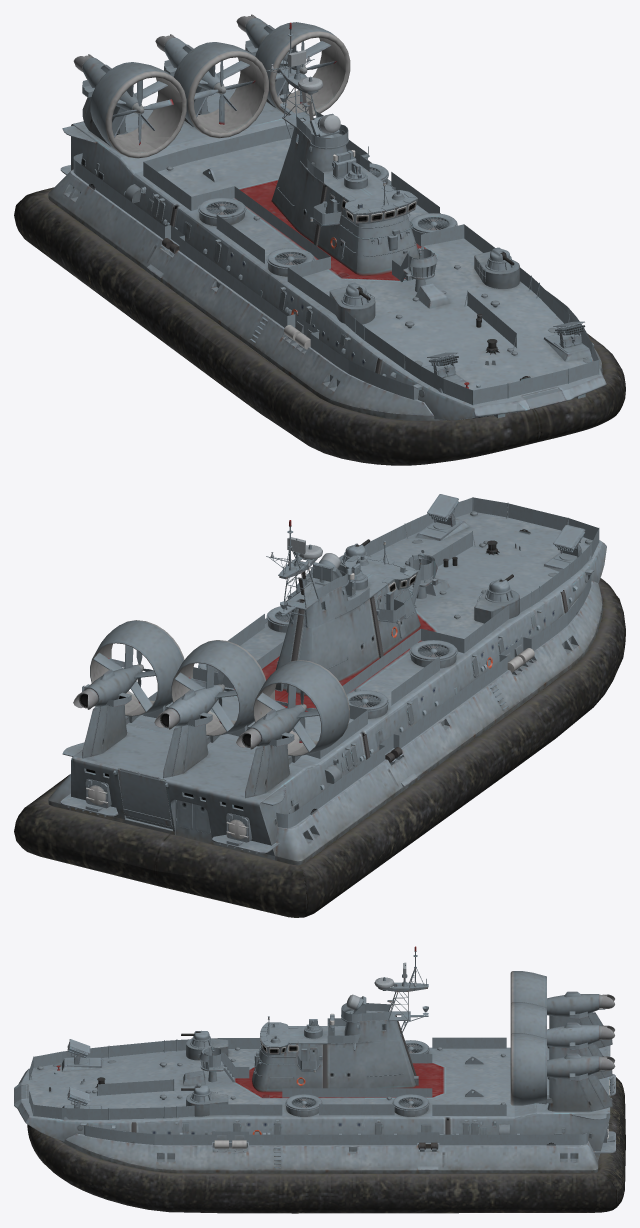
The model's file is dengluting.glb.
3 views of the same model, one above another, from view 1: azimuth 30°, elevation 25°; view 2: azimuth 150°, elevation 25°; view 3: azimuth 270°, elevation 25° (orthographic). The views are drawn at different scales.
Visible parts, largest first — view 1: SK_East_LCAC_Zubr.001; view 2: SK_East_LCAC_Zubr.001; view 3: SK_East_LCAC_Zubr.001.
Boxes of the visible parts, bbox=[...] form: SK_East_LCAC_Zubr.001: bbox=[14, 14, 625, 465]; SK_East_LCAC_Zubr.001: bbox=[14, 494, 625, 917]; SK_East_LCAC_Zubr.001: bbox=[14, 946, 625, 1213].
Bounding box in the file's own units: 26.29 × 22.45 × 58.3.
Materials: 4 (4 with a texture image).
